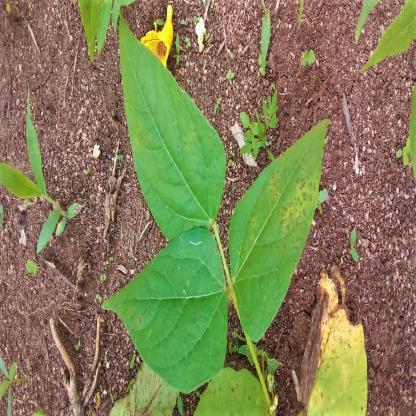Beans_Angular_LeafSpot: (117, 15, 228, 232), (230, 123, 324, 343), (102, 231, 225, 387)
